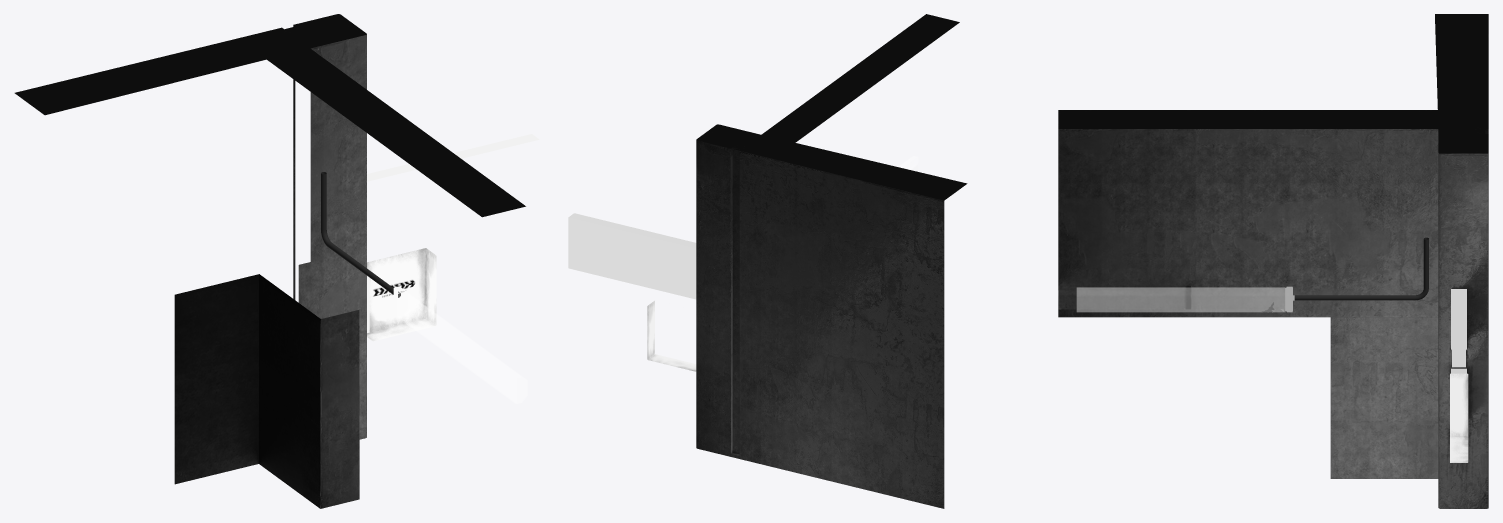
Rendered from xero.glb.
3 views of the same model, side by side, from view 1: azimuth 30°, elevation 25°; view 2: azimuth 150°, elevation 25°; view 3: azimuth 270°, elevation 25° (orthographic). The views are drawn at different scales.
Visible parts, largest first — view 1: Base, Sing, Ligth, Tube; view 2: Base, Sing; view 3: Base, Ligth, Sing, Tube.
Boxes of the visible parts, bbox=[...] form: Base: bbox=[14, 14, 539, 508]; Sing: bbox=[367, 248, 436, 341]; Ligth: bbox=[397, 290, 527, 403]; Tube: bbox=[321, 172, 400, 297]; Base: bbox=[568, 14, 967, 508]; Sing: bbox=[647, 300, 696, 371]; Base: bbox=[1058, 14, 1488, 508]; Ligth: bbox=[1077, 287, 1285, 312]; Sing: bbox=[1450, 373, 1468, 462]; Tube: bbox=[1294, 237, 1428, 300].
Bounding box in the file's own units: 3.93 × 3 × 3.3.
Materials: 4 (3 with a texture image).
